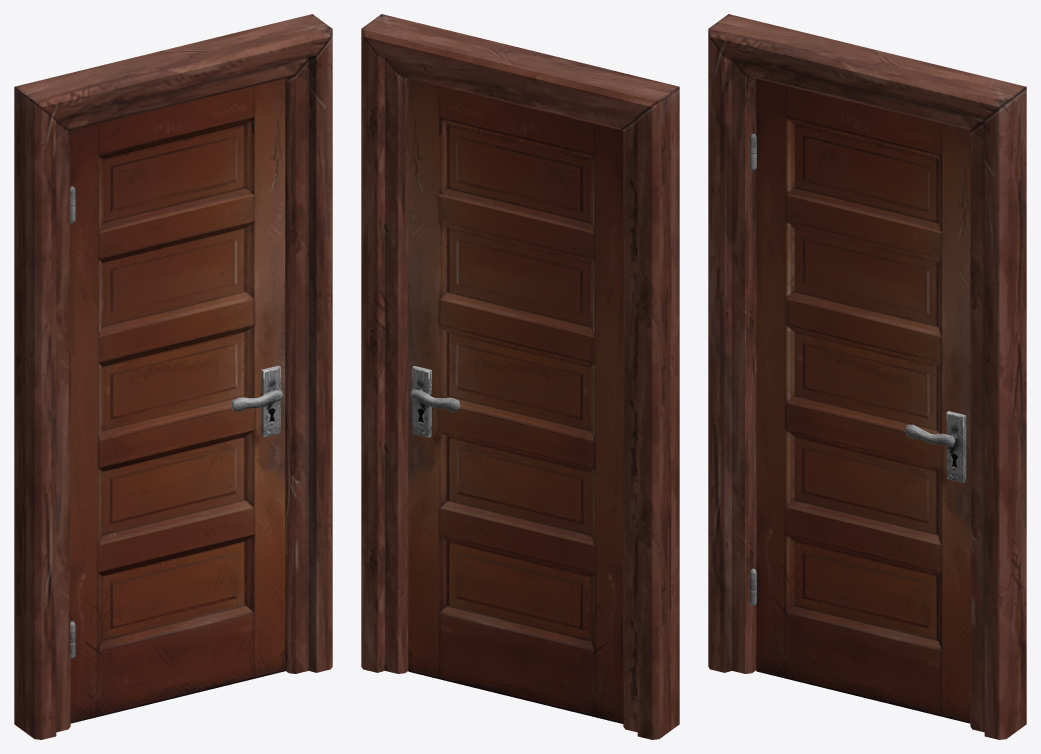
Rendered from door02.fbx.
3 views of the same model, side by side, from view 1: azimuth 30°, elevation 25°; view 2: azimuth 150°, elevation 25°; view 3: azimuth 330°, elevation 25° (orthographic).
Parts seen in each view (by area): view 1: porte_2, cadre_porte2; view 2: porte_2, cadre_porte2; view 3: porte_2, cadre_porte2.
Boxes of the visible parts, <box> form: porte_2: <box>70,78,285,723</box>; cadre_porte2: <box>14,14,332,739</box>; porte_2: <box>408,78,623,723</box>; cadre_porte2: <box>361,14,679,739</box>; porte_2: <box>756,78,970,723</box>; cadre_porte2: <box>708,14,1026,739</box>.
Size of the model in its own units: 112 by 228 by 16.82.
